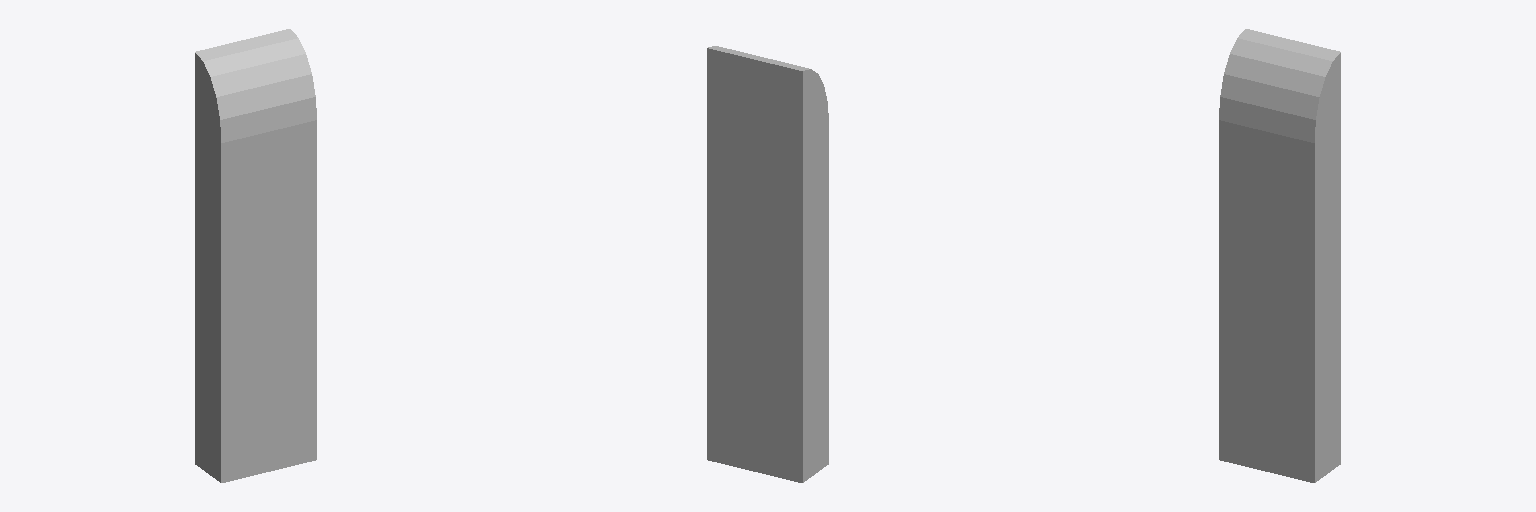
The model's file is machine_transport.obj.
The picture shows the model from 3 angles: view 1: azimuth 30°, elevation 25°; view 2: azimuth 150°, elevation 25°; view 3: azimuth 330°, elevation 25°; orthographic projection.
Visible parts, largest first — view 1: Cube.001_Cube.002; view 2: Cube.001_Cube.002; view 3: Cube.001_Cube.002.
Boxes of the visible parts, box(x1,y1,x2,y2) form: Cube.001_Cube.002: box(195, 29, 316, 482); Cube.001_Cube.002: box(707, 46, 828, 482); Cube.001_Cube.002: box(1219, 29, 1340, 482).
Size of the model in its own units: 3.02 by 12.41 by 1.45.